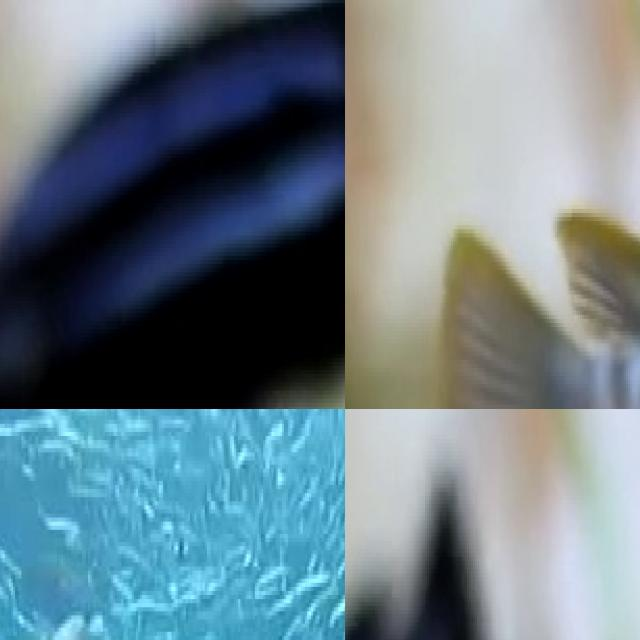fish: (0, 0, 345, 409), (345, 487, 498, 640)
